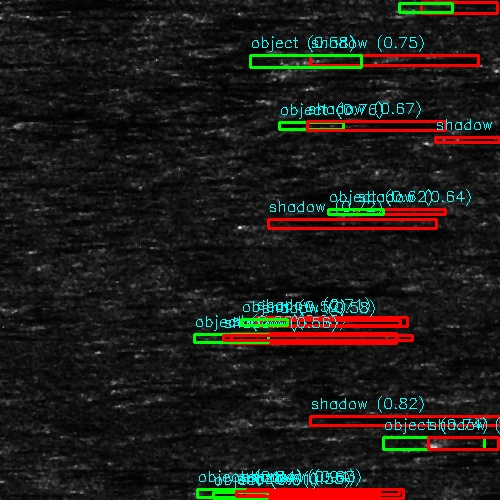rock: (124, 330, 343, 347), (382, 132, 487, 147), (397, 437, 460, 454), (263, 56, 356, 65), (99, 80, 162, 91), (391, 2, 444, 13), (213, 492, 266, 497), (180, 16, 211, 21), (451, 73, 500, 76)
shadow: (234, 330, 441, 347), (131, 80, 299, 91), (310, 56, 500, 65), (429, 437, 500, 454), (435, 132, 500, 147), (418, 2, 500, 13), (240, 492, 392, 497), (196, 16, 253, 21)
